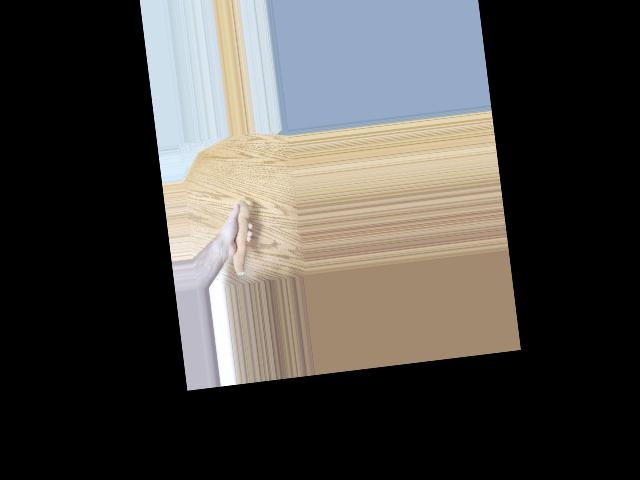sweet_potato: (223, 200, 258, 279)
